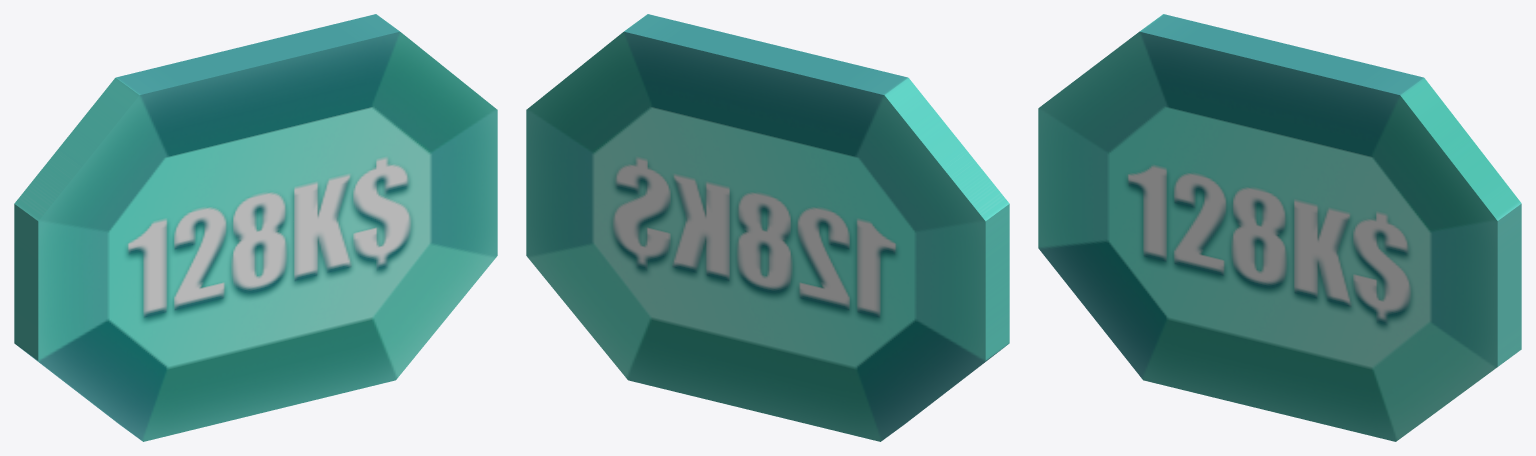
Rendered from 20_128KDollars.fbx.
The picture shows the model from 3 angles, left to right: view 1: azimuth 30°, elevation 25°; view 2: azimuth 150°, elevation 25°; view 3: azimuth 330°, elevation 25°; orthographic projection.
Visible parts, largest first — view 1: _128KDollars; view 2: _128KDollars; view 3: _128KDollars.
Part boxes in pixels (x1,y1,x2,y2): _128KDollars: (14,14,497,441); _128KDollars: (526,14,1009,441); _128KDollars: (1038,14,1521,441).
Bounding box in the file's own units: 85.22 × 61.64 × 7.74.
Materials: 1 (1 with a texture image).
